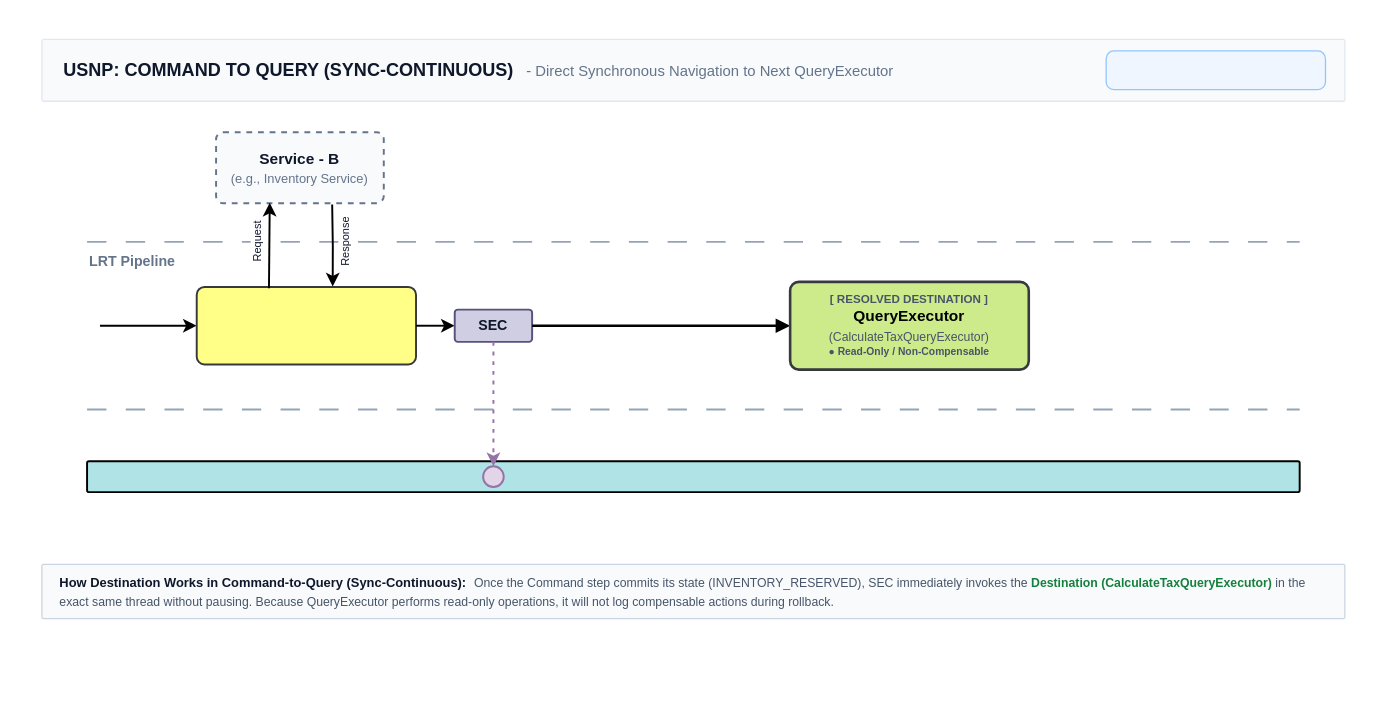
Image size: 1385x715. Some labels were removed from this diagram. Here are the shapes that lost their labels. From the top down, the box of each, then its label:
(1105, 50, 1325, 90): PATTERN 1 NAVIGATION
(195, 285, 416, 365): CommandExecutor (ReserveInventoryCommandExecutor)
